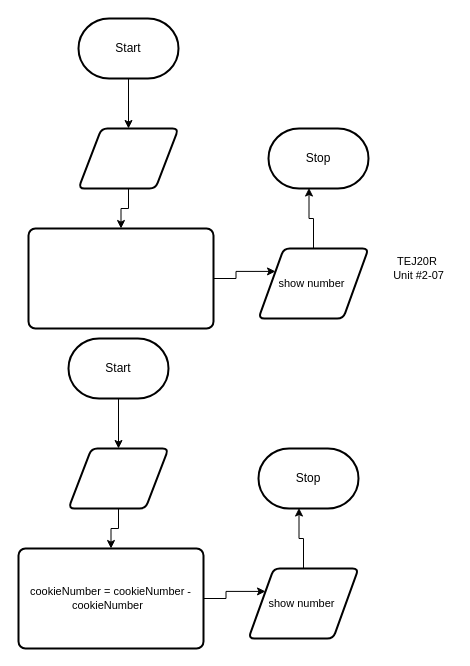
Some shapes in this 470 by 666 pixel diagram are drawn without their labels. The shapes that lost their labels are listed below. From the top down, each one's box as (x1, y1, x2, y2) in pixels, then its label:
(77, 127, 179, 189): click "a"
(27, 227, 214, 329): cookieNumber = cookieNumber + 1
(67, 447, 169, 509): click "b"
